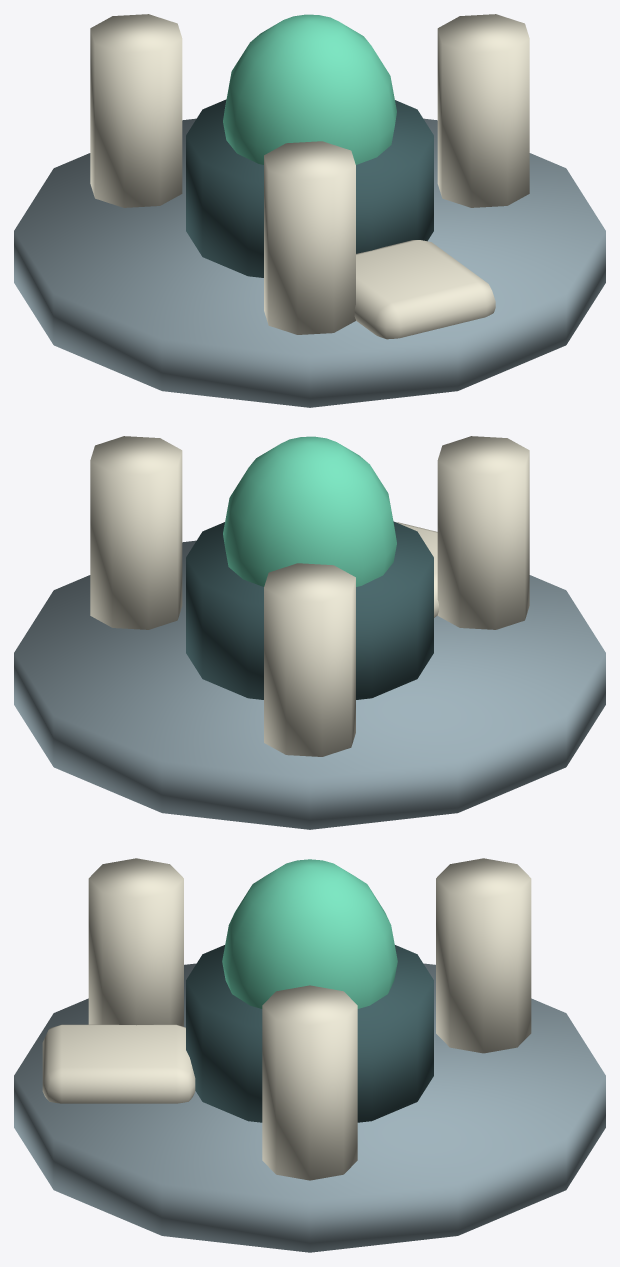
The model's file is site_production.glb.
3 renders of one model, top to bottom at view 1: azimuth 30°, elevation 25°; view 2: azimuth 150°, elevation 25°; view 3: azimuth 270°, elevation 25°, orthographic.
Parts seen in each view (by area): view 1: Organic cradle, Living seed, Reactor housing, Collector tower.001, Collector tower, Collector tower.002, Open exit ramp; view 2: Organic cradle, Reactor housing, Living seed, Collector tower, Collector tower.002, Collector tower.001, Open exit ramp; view 3: Organic cradle, Reactor housing, Living seed, Collector tower.001, Collector tower, Collector tower.002, Open exit ramp.
Part boxes in pixels (box(x1,y1,x2,y2)): Organic cradle: box(14, 118, 605, 407); Living seed: box(223, 14, 396, 164); Reactor housing: box(186, 99, 433, 277); Collector tower.001: box(90, 14, 182, 207); Collector tower: box(437, 14, 529, 207); Collector tower.002: box(264, 141, 355, 334); Open exit ramp: box(354, 240, 495, 339); Organic cradle: box(14, 540, 605, 829); Reactor housing: box(186, 521, 433, 699); Living seed: box(223, 436, 396, 586); Collector tower: box(90, 436, 182, 629); Collector tower.002: box(437, 436, 529, 629); Collector tower.001: box(264, 563, 355, 756); Open exit ramp: box(396, 522, 438, 617); Organic cradle: box(14, 963, 605, 1252); Reactor housing: box(186, 945, 433, 1122); Living seed: box(222, 859, 397, 1008); Collector tower.001: box(436, 858, 531, 1053); Collector tower: box(262, 985, 357, 1180); Collector tower.002: box(88, 858, 183, 1026); Open exit ramp: box(42, 1024, 195, 1103).
Bounding box in the file's own units: 3.1 × 1.51 × 3.1.
